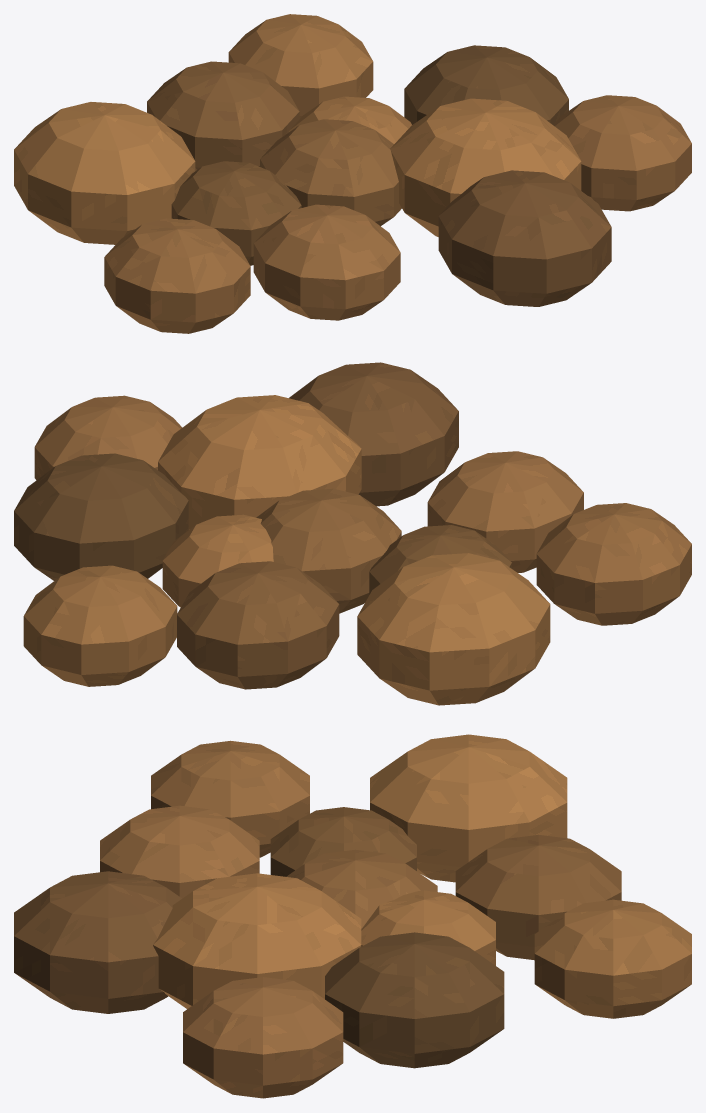
Rendered from hickory_nut_shelled.glb.
3 views of the same model, one above another, from view 1: azimuth 30°, elevation 25°; view 2: azimuth 150°, elevation 25°; view 3: azimuth 270°, elevation 25° (orthographic). The views are drawn at different scales.
Parts seen in each view (by area): view 1: block_grain 7, block_grain 8, block_grain 3, block_grain 5, block_grain 10, block_grain 11, block_grain 4, block_grain 0, block_grain 9, block_grain 6, block_grain 2, block_grain 1; view 2: block_grain 7, block_grain 3, block_grain 6, block_grain 4, block_grain 10, block_grain 9, block_grain 8, block_grain 5, block_grain 0, block_grain 11, block_grain 1, block_grain 2; view 3: block_grain 7, block_grain 3, block_grain 6, block_grain 8, block_grain 11, block_grain 9, block_grain 4, block_grain 10, block_grain 5, block_grain 2, block_grain 0, block_grain 1.
Part boxes in pixels (x1,y1,x2,y2): block_grain 7: [14, 102, 195, 244]; block_grain 8: [438, 170, 611, 306]; block_grain 3: [390, 98, 581, 236]; block_grain 5: [253, 204, 400, 320]; block_grain 10: [104, 218, 250, 333]; block_grain 11: [553, 95, 691, 211]; block_grain 4: [147, 61, 299, 170]; block_grain 0: [260, 119, 401, 226]; block_grain 9: [228, 14, 373, 118]; block_grain 6: [404, 45, 568, 124]; block_grain 2: [171, 161, 301, 265]; block_grain 1: [288, 96, 411, 143]; block_grain 7: [357, 553, 550, 705]; block_grain 3: [158, 395, 361, 529]; block_grain 6: [14, 453, 188, 580]; block_grain 4: [177, 561, 339, 689]; block_grain 10: [536, 503, 691, 625]; block_grain 9: [23, 565, 177, 686]; block_grain 8: [289, 362, 458, 506]; block_grain 5: [427, 451, 583, 572]; block_grain 0: [256, 488, 401, 613]; block_grain 11: [34, 395, 182, 480]; block_grain 1: [162, 514, 273, 607]; block_grain 2: [369, 525, 511, 594]; block_grain 7: [370, 734, 567, 882]; block_grain 3: [153, 873, 361, 1008]; block_grain 6: [325, 932, 504, 1068]; block_grain 8: [14, 871, 181, 1013]; block_grain 11: [183, 977, 343, 1098]; block_grain 9: [534, 899, 691, 1018]; block_grain 4: [455, 834, 621, 960]; block_grain 10: [151, 740, 309, 857]; block_grain 5: [100, 805, 259, 898]; block_grain 2: [270, 807, 416, 876]; block_grain 0: [286, 849, 437, 928]; block_grain 1: [361, 890, 495, 965].
Bounding box in the file's own units: 0.0716 × 0.0145 × 0.0681.
Materials: 1 (1 with a texture image).
